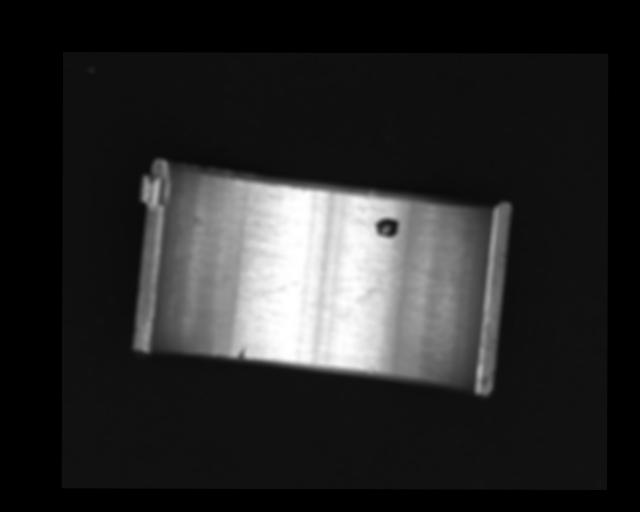blot: (353, 259, 404, 304), (374, 217, 399, 238)
bruise: (237, 345, 247, 359), (367, 367, 375, 375)
